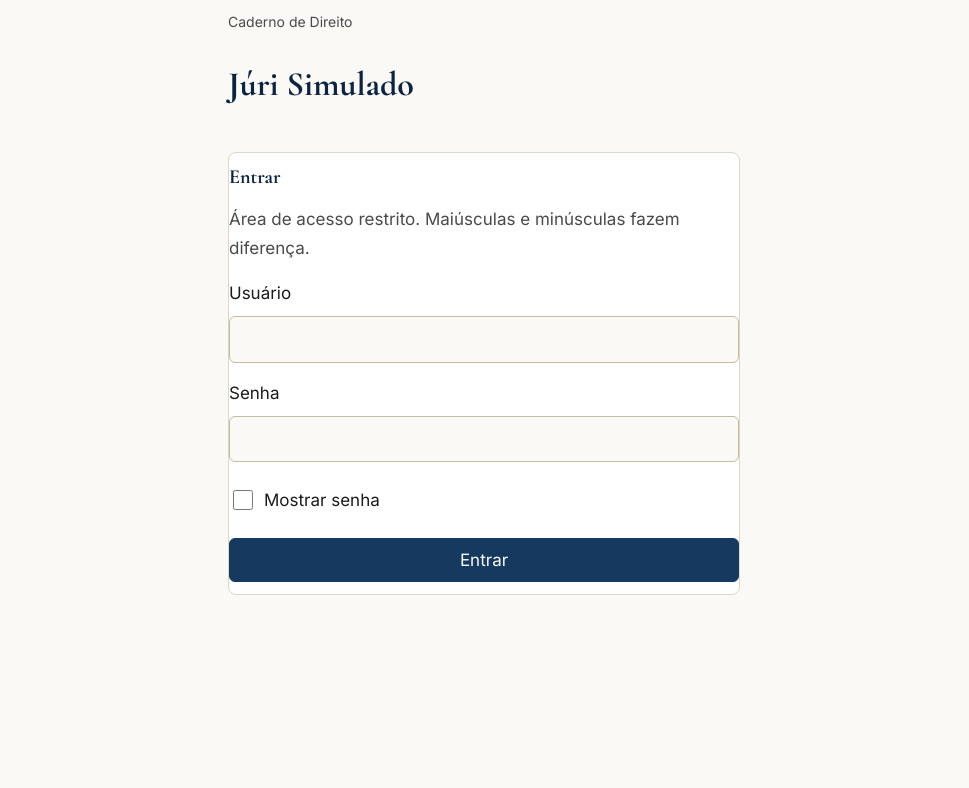
Test case: AreaJuri: aberta, recarregar e sair › Sair devolve ao formulário de entrada
In the field named "usuario": (484, 339) [229,316,739,363], type "admin"
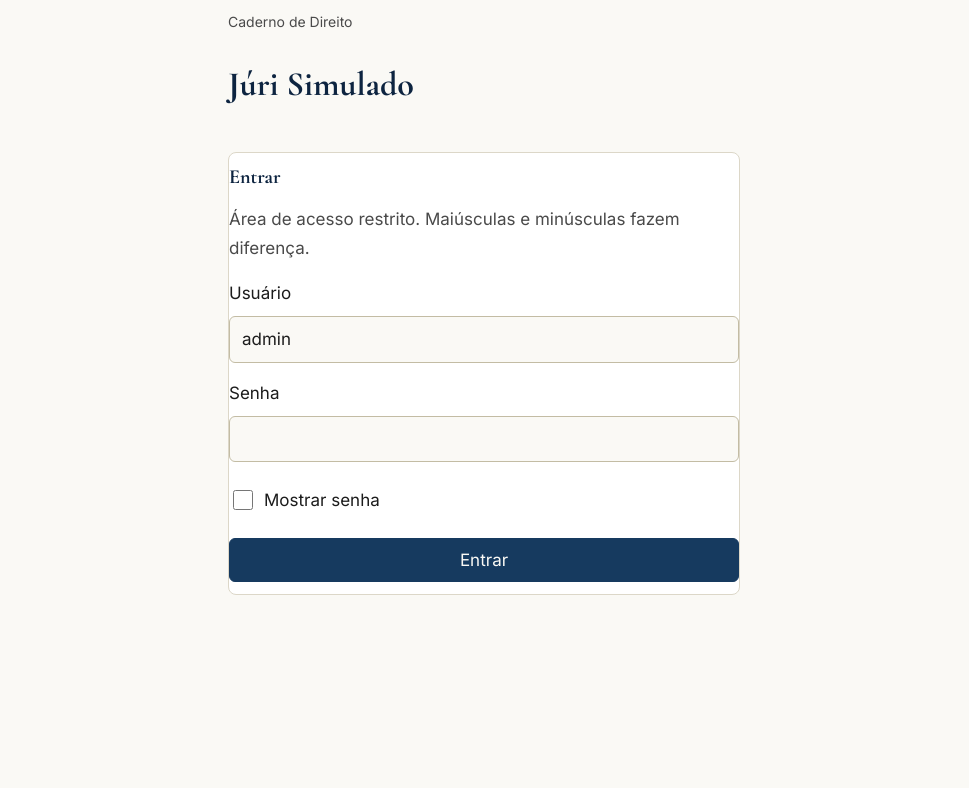
In the password field named "senha": (484, 439) [229,416,739,462], type "provisoria-sintetica-de-teste"
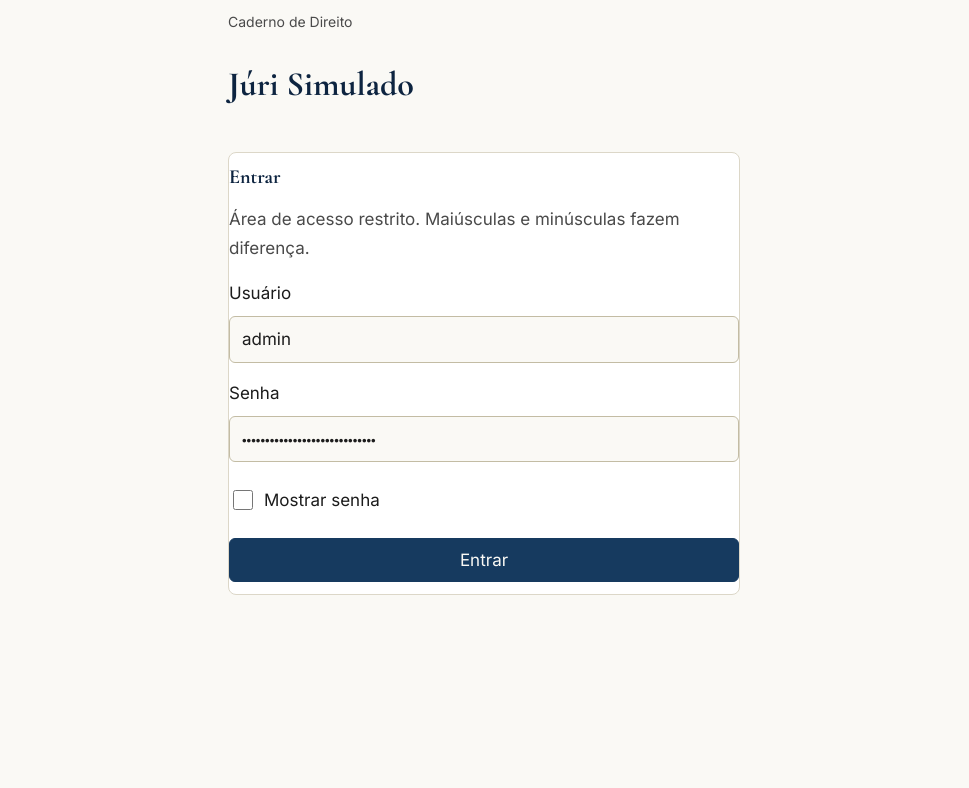
Submit the form, box [228,152,740,595]
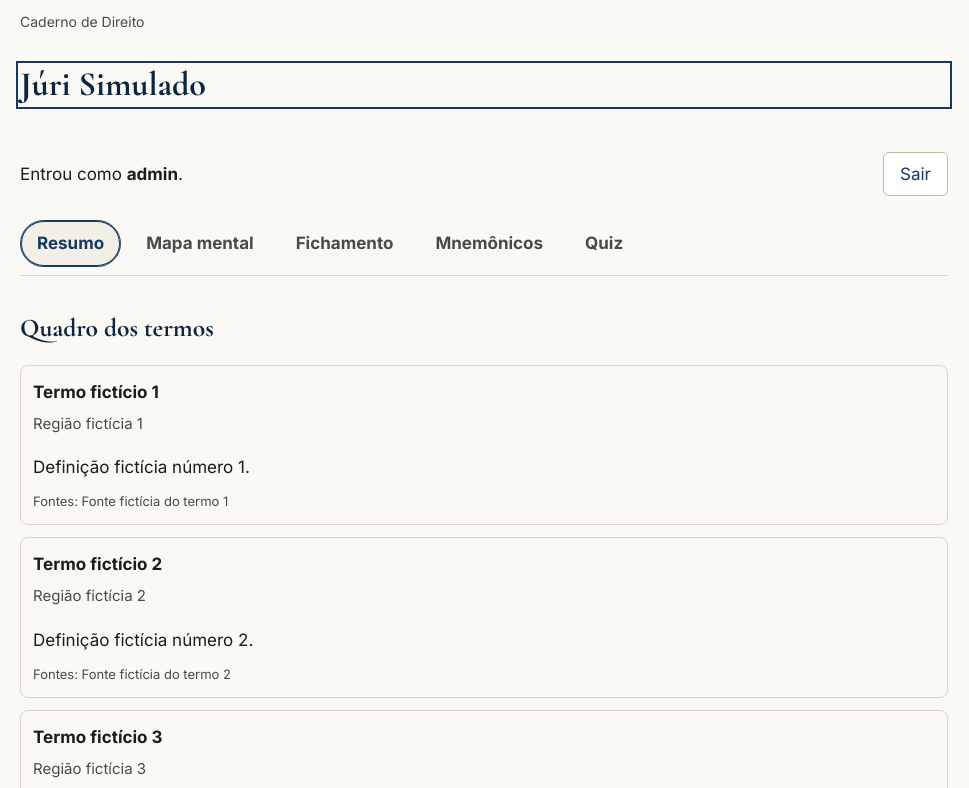
Click the button "Sair": (916, 174) [883,152,948,196]
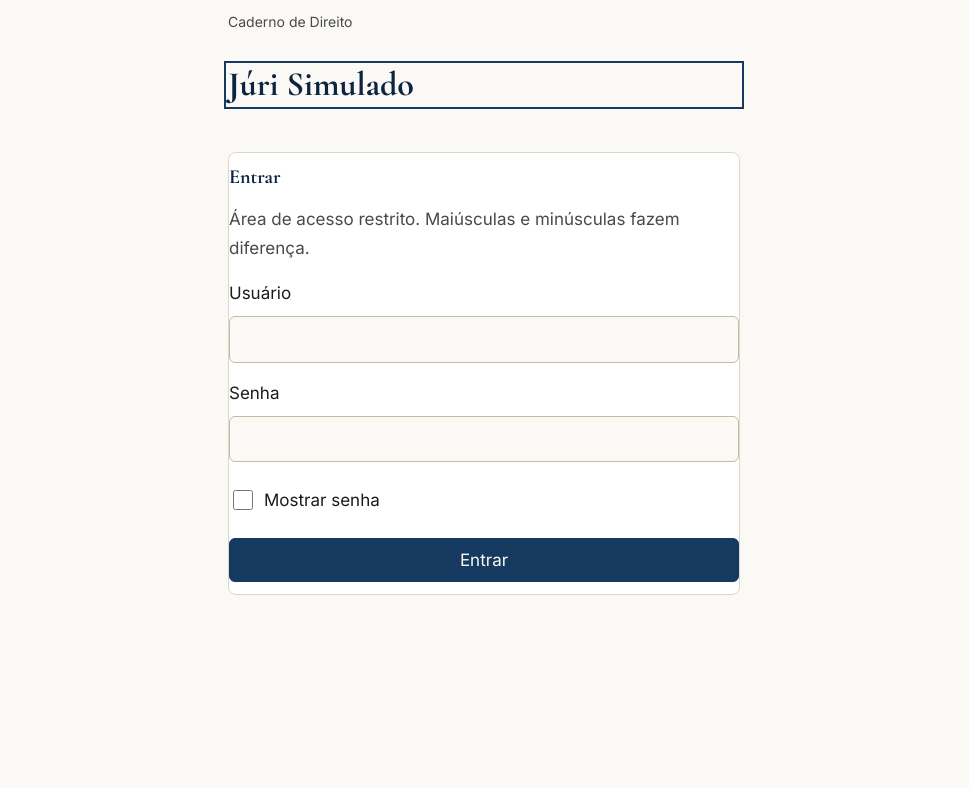
Check: the heading "Entrar" is shown, box [229,165,281,189]
